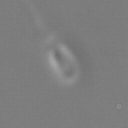normal: (23, 1, 58, 50)
